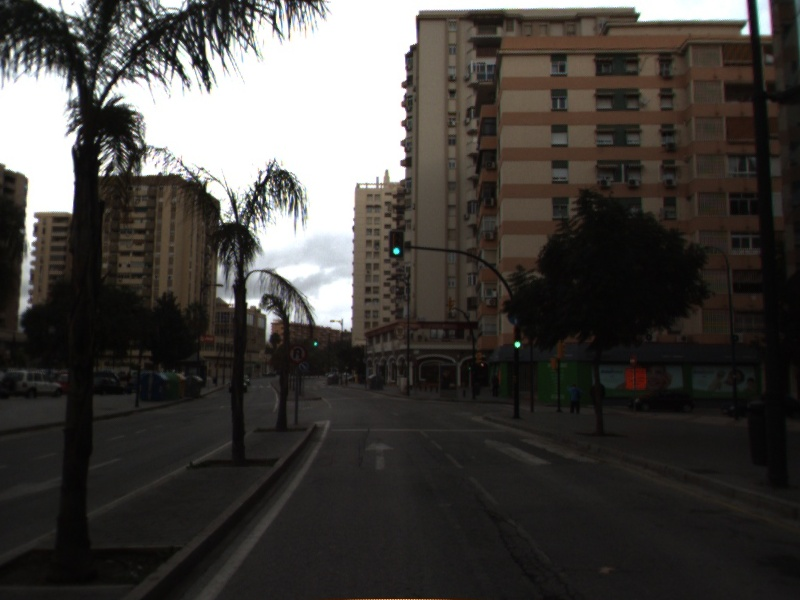STRAIGHT: (362, 436, 397, 473)
